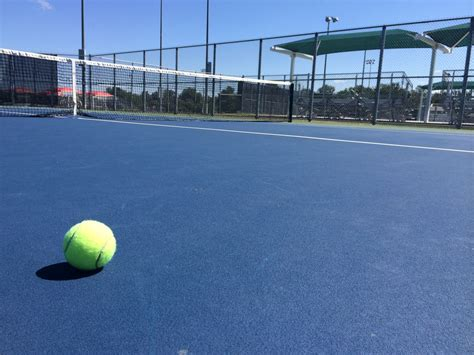tennis_ball: (62, 219, 116, 269)
